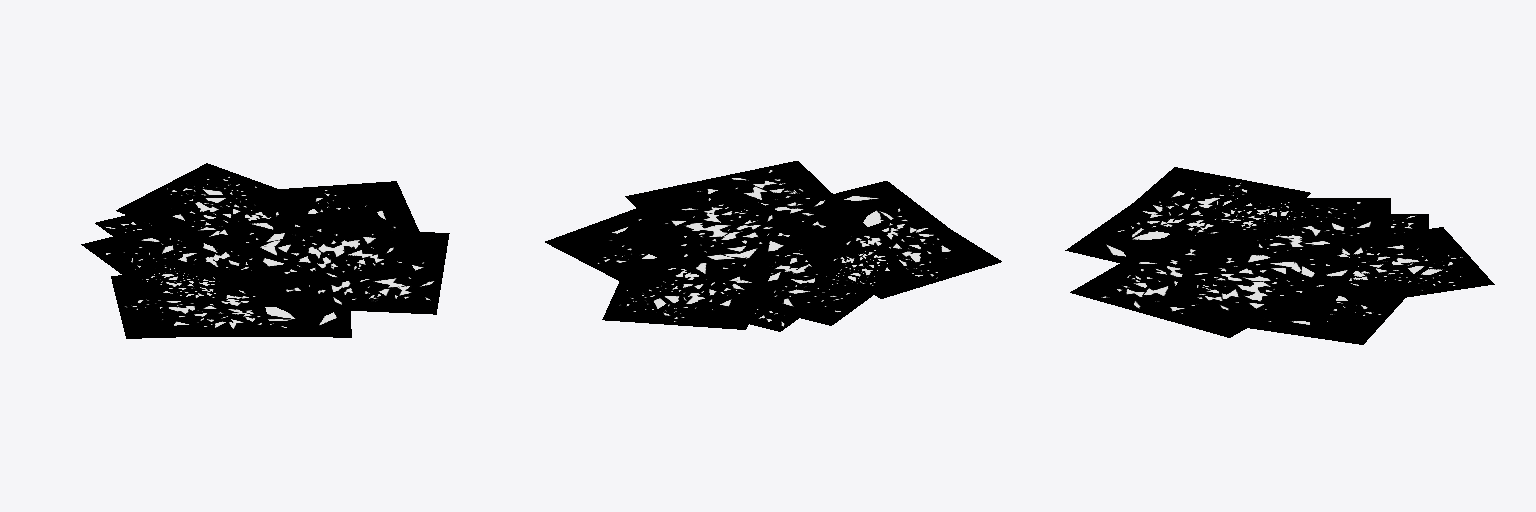
3 views of the same model, side by side, from view 1: azimuth 30°, elevation 25°; view 2: azimuth 150°, elevation 25°; view 3: azimuth 270°, elevation 25° (orthographic).
Parts seen in each view (by area): view 1: SM_INT_BrokenGlassB; view 2: SM_INT_BrokenGlassB; view 3: SM_INT_BrokenGlassB.
Part boxes in pixels (x1,y1,x2,y2): SM_INT_BrokenGlassB: (81,163,449,338); SM_INT_BrokenGlassB: (545,161,1001,331); SM_INT_BrokenGlassB: (1065,167,1494,344).
Bounding box in the file's own units: 344 × 0.4 × 350.
Materials: 1 (1 with a texture image).